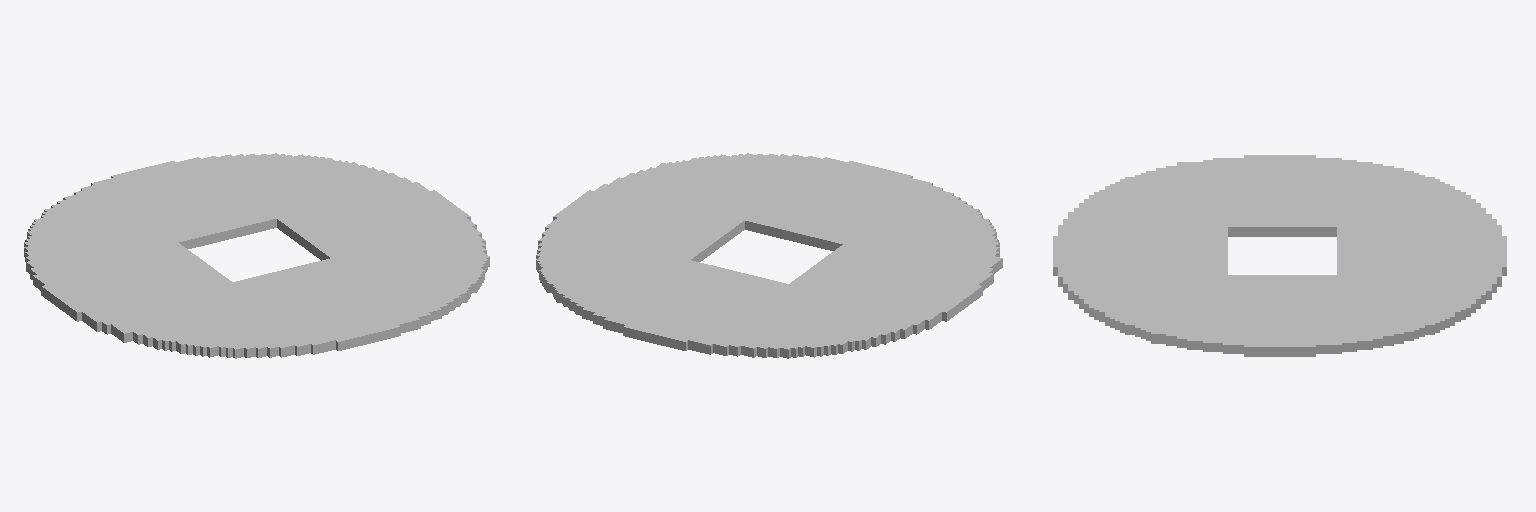
Rendered from 2 лвл-5.obj.
3 views of the same model, side by side, from view 1: azimuth 30°, elevation 25°; view 2: azimuth 150°, elevation 25°; view 3: azimuth 270°, elevation 25° (orthographic).
Visible parts, largest first — view 1: object 1; view 2: object 1; view 3: object 1.
Boxes of the visible parts, x1=… form: object 1: x1=24, y1=153, x2=489, y2=358; object 1: x1=536, y1=153, x2=1002, y2=358; object 1: x1=1053, y1=155, x2=1506, y2=356.
Size of the model in its own units: 8.8 by 0.2 by 8.8.